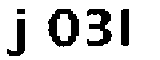0: (46, 5, 81, 49)
3: (84, 7, 112, 51)
j: (3, 6, 34, 57)
l: (116, 8, 142, 46)
